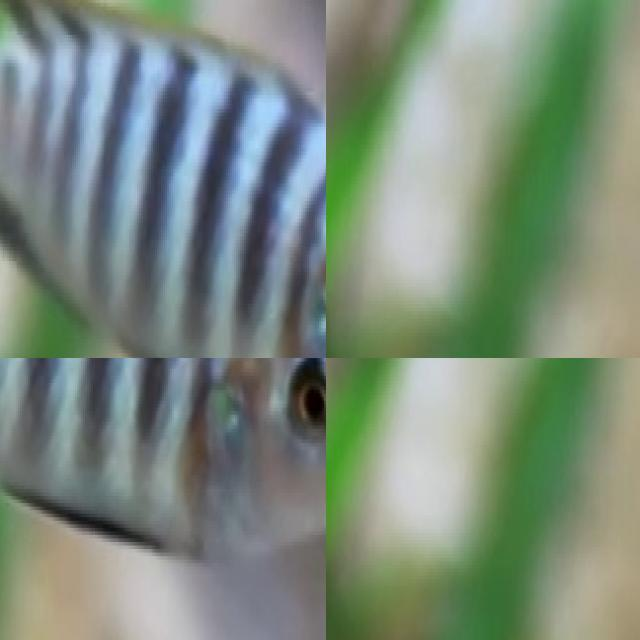fish: (0, 0, 326, 358), (483, 0, 640, 219)
